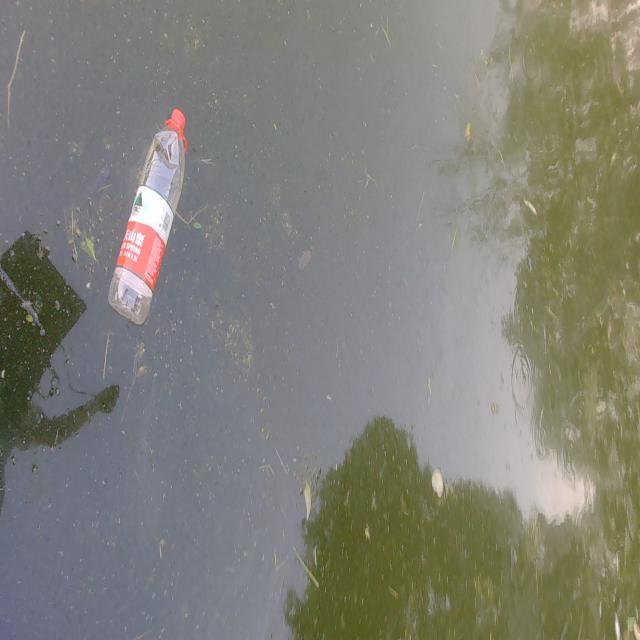bottle: (100, 99, 199, 328)
